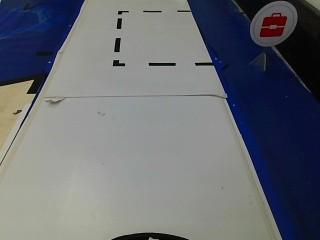company: (248, 1, 298, 49)
